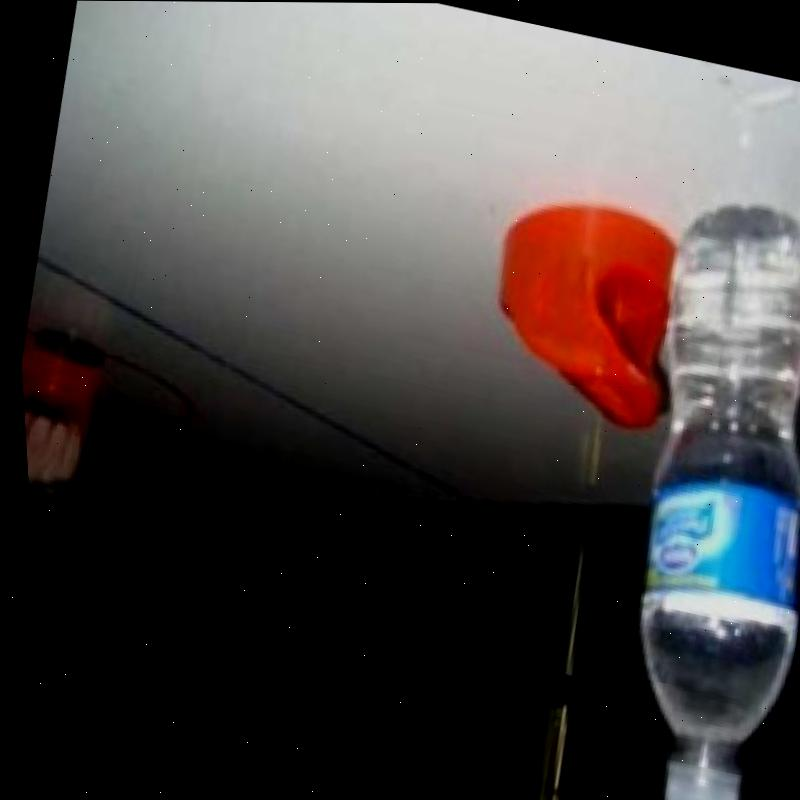botella: (549, 187, 800, 800)
